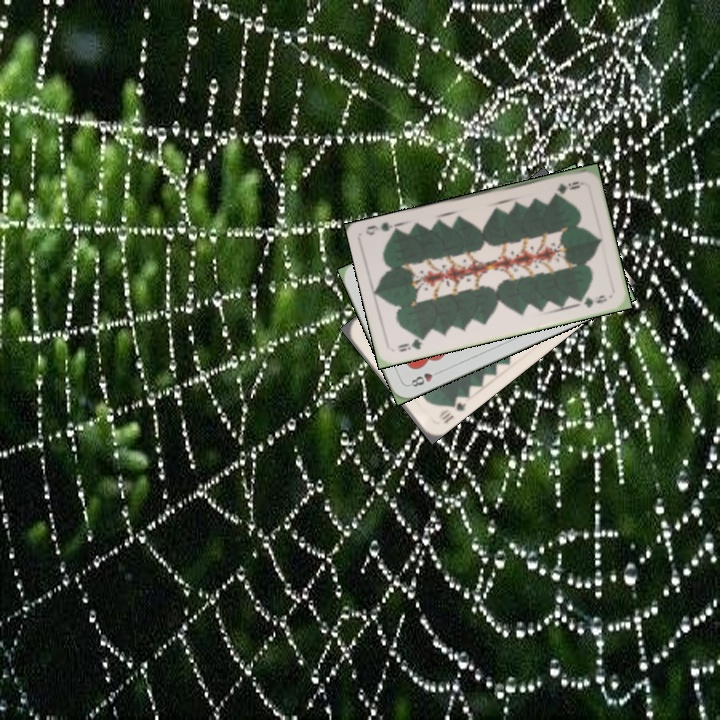G10: (434, 395, 469, 427)
G9: (394, 332, 428, 354), (553, 177, 583, 196)
H8: (405, 366, 443, 390)
